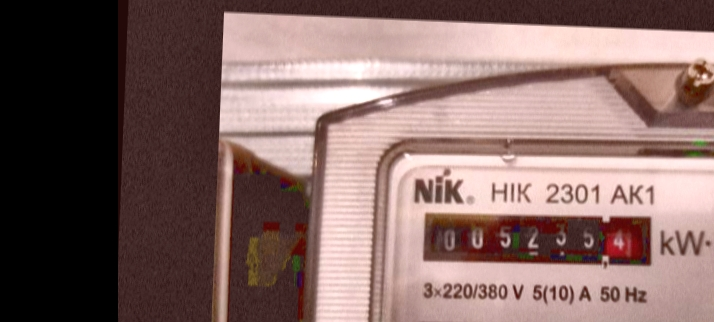0: (442, 225, 458, 251), (470, 224, 486, 249)
2: (525, 223, 542, 249)
3: (552, 221, 570, 246)
4: (610, 223, 629, 253)
5: (580, 221, 597, 249), (498, 222, 513, 248)
screen: (410, 196, 663, 278)
